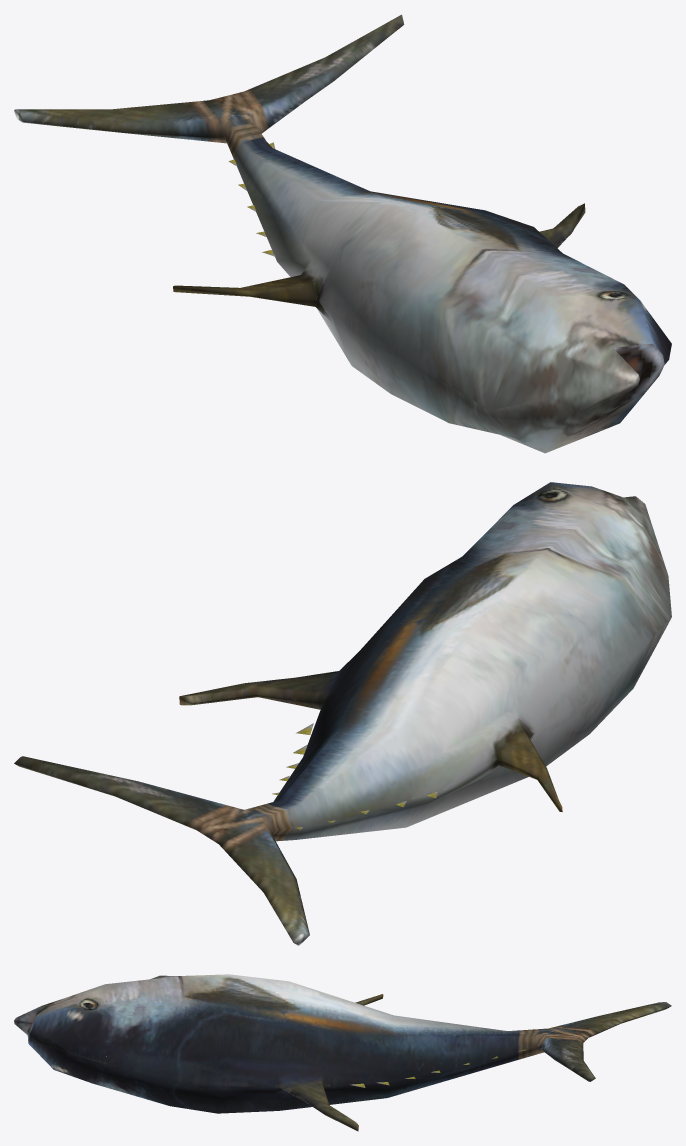
The picture shows the model from 3 angles, top to bottom: view 1: azimuth 30°, elevation 25°; view 2: azimuth 150°, elevation 25°; view 3: azimuth 270°, elevation 25°; orthographic projection. The views are drawn at different scales.
Parts seen in each view (by area): view 1: LV_M5_Port_FishNet05_SM_KHJ; view 2: LV_M5_Port_FishNet05_SM_KHJ; view 3: LV_M5_Port_FishNet05_SM_KHJ.
Boxes of the visible parts, x1=… form: LV_M5_Port_FishNet05_SM_KHJ: x1=14, y1=14, x2=671, y2=453; LV_M5_Port_FishNet05_SM_KHJ: x1=14, y1=482, x2=671, y2=945; LV_M5_Port_FishNet05_SM_KHJ: x1=14, y1=974, x2=671, y2=1131.
Bounding box in the file's own units: 0.3266 × 0.1444 × 0.6913.
Materials: 1 (1 with a texture image).
